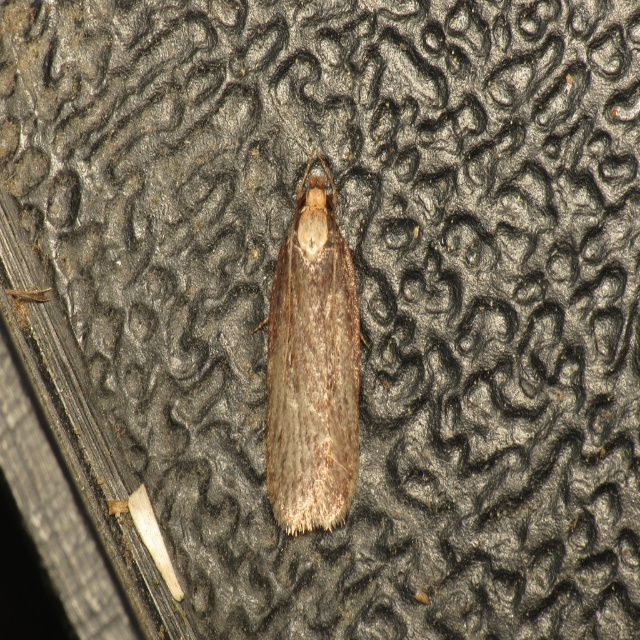Moths and butterflies: (249, 141, 370, 540)
